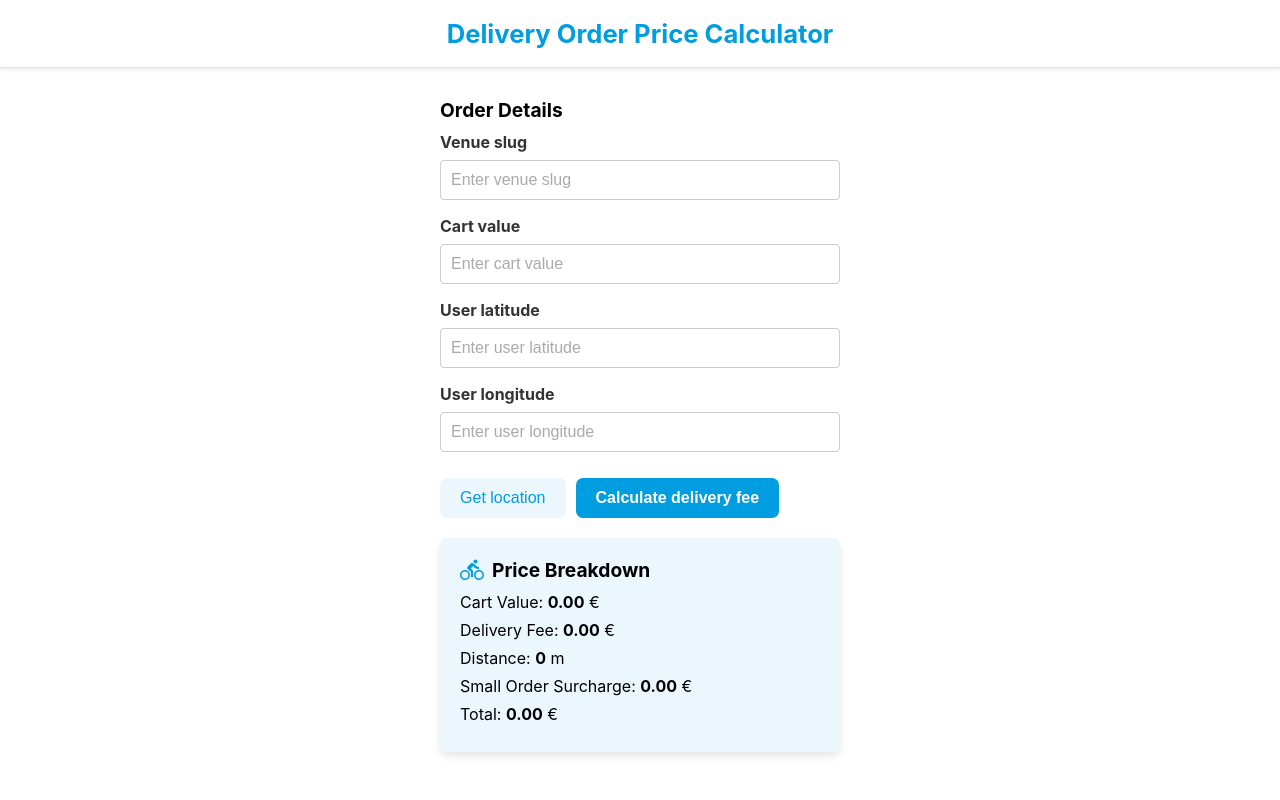
Test case: PriceCalculator › should display error message when endpoint returns other error
Type "home-assignment-venue-helsinki" into the field with placeholder "Enter venue slug" at (640,180), box [440, 160, 840, 200]
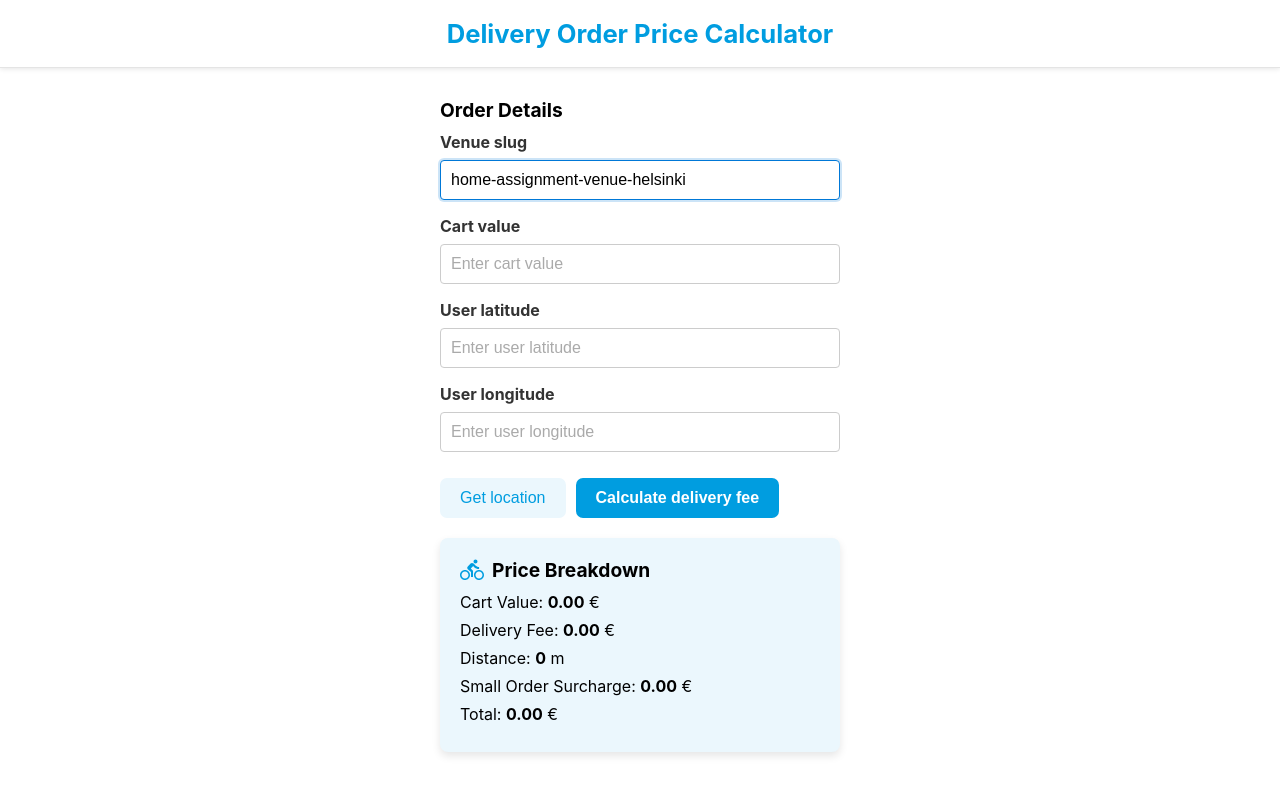
Type "5.93" into the number field with placeholder "Enter cart value" at (640,264), box [440, 244, 840, 284]
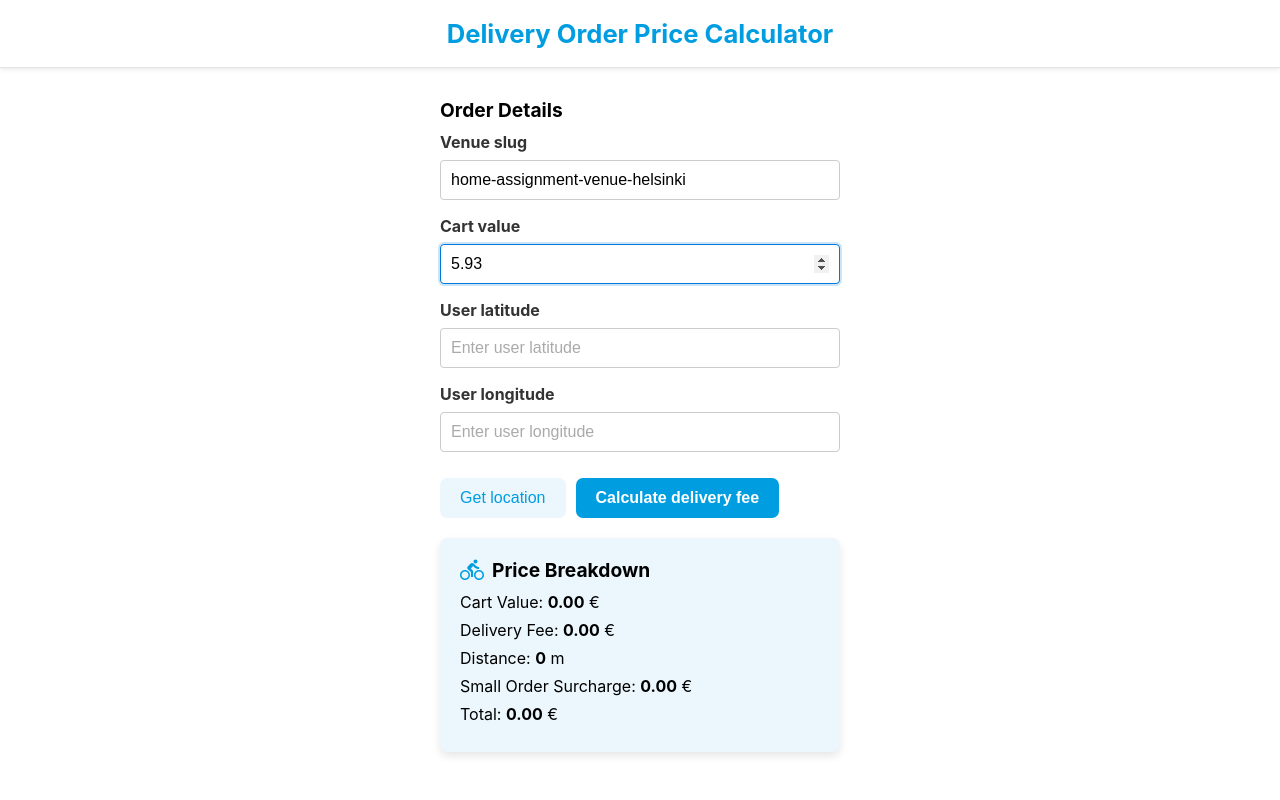
Type "60.1846967" into the number field with placeholder "Enter user latitude" at (640,348), box [440, 328, 840, 368]
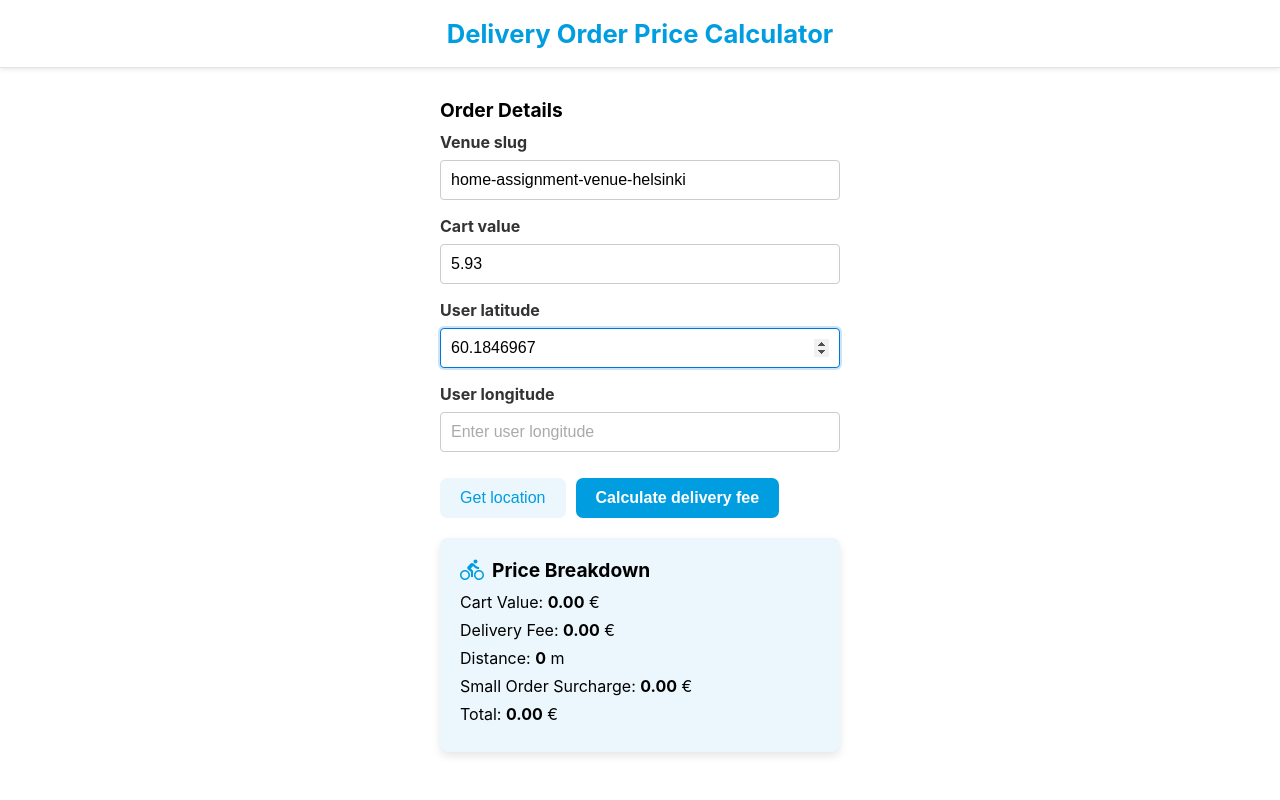
Type "24.9349696" into the number field with placeholder "Enter user longitude" at (640,432), box [440, 412, 840, 452]
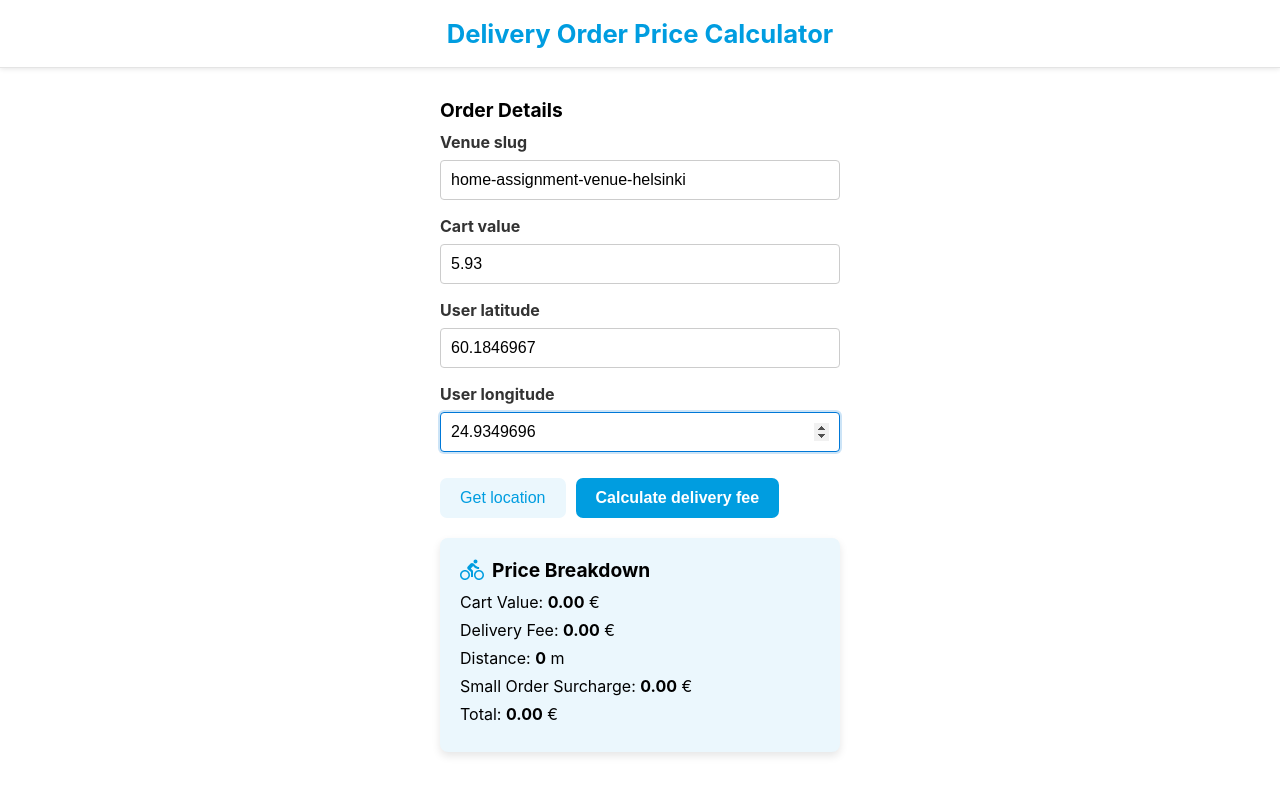
Click the button "Calculate delivery fee" at (677,498), box [576, 478, 779, 518]
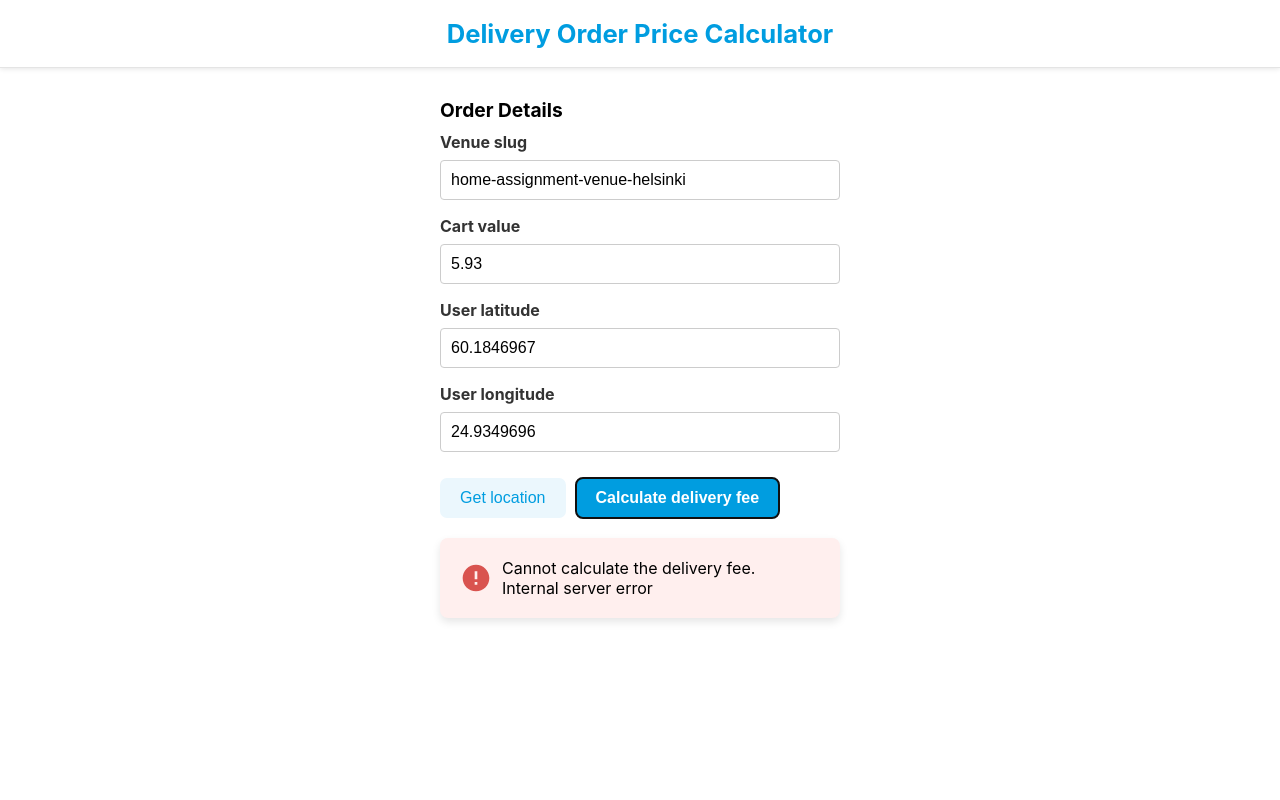
Expected: the text "Cannot calculate the delivery fee. Internal server error" is shown, [440, 538, 840, 618]
